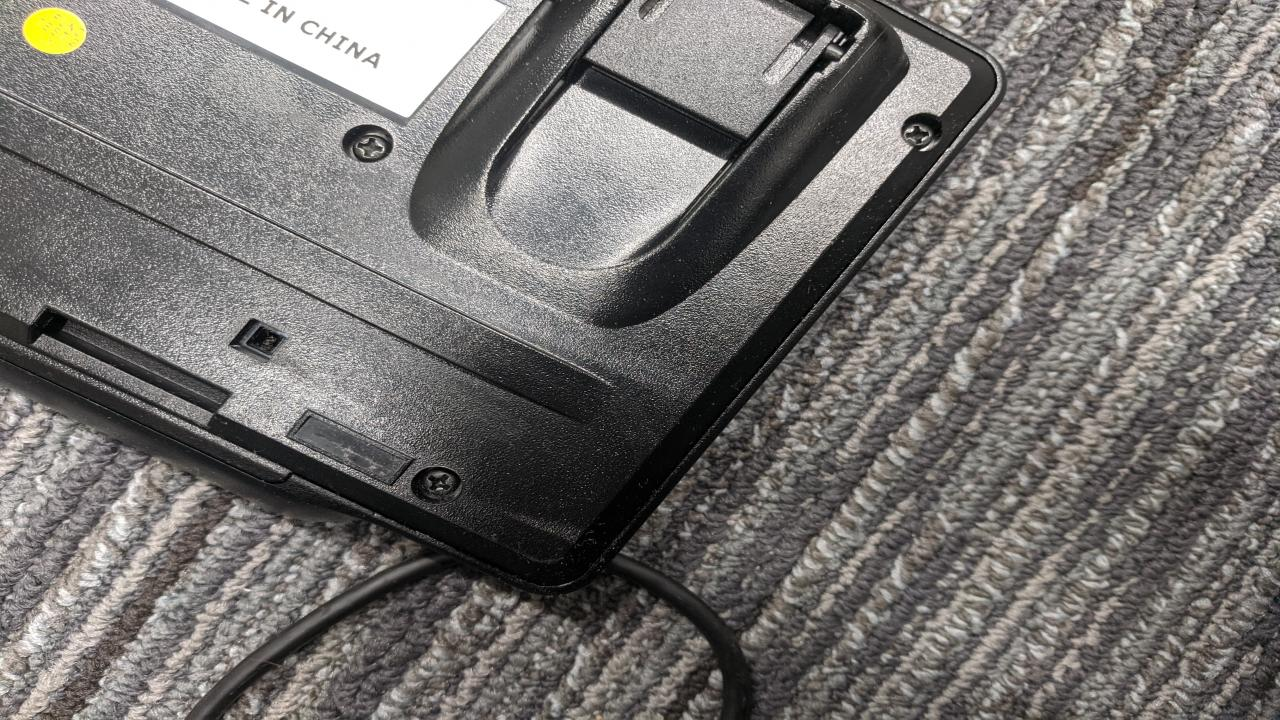CRS: (345, 130, 391, 162), (419, 468, 464, 498)
